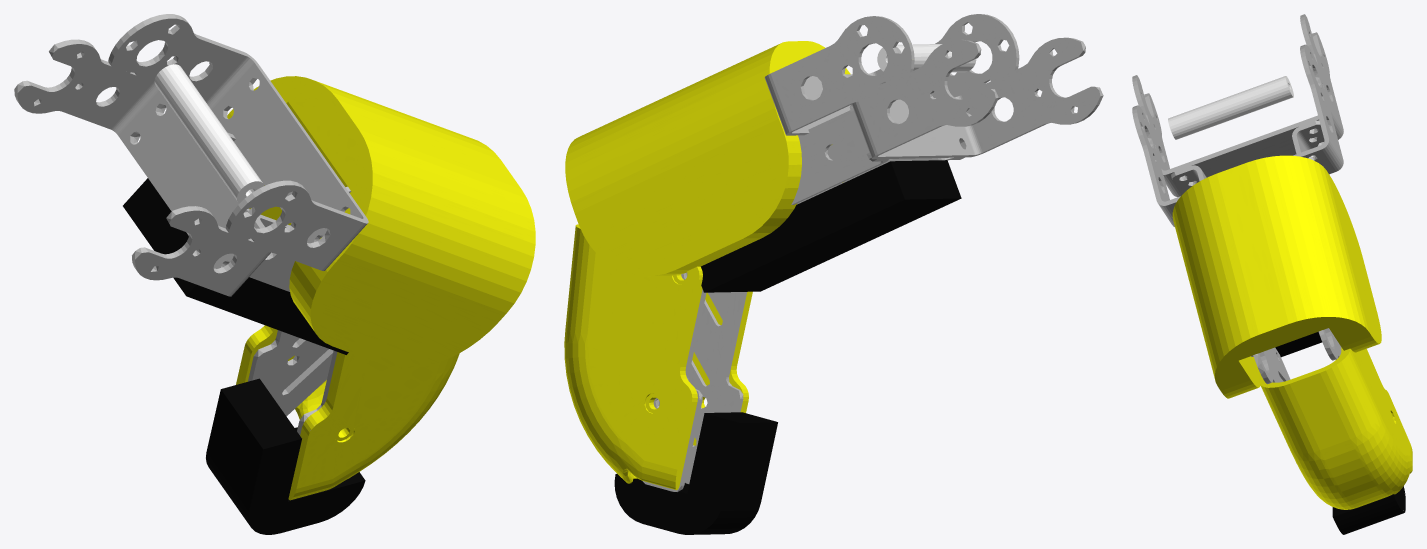
Rendered from mini2_finger_left_module.dae.
The picture shows the model from 3 angles, left to right: view 1: azimuth 30°, elevation 25°; view 2: azimuth 150°, elevation 25°; view 3: azimuth 270°, elevation 25°; orthographic projection. The views are drawn at different scales.
Visible parts, largest first — view 1: node; view 2: node; view 3: node.
Boxes of the visible parts, x1,y1,x2,y2 form: node: (14,14,535,534); node: (564,14,1103,534); node: (1132,14,1412,534).
Bounding box in the file's own units: 12 × 14.13 × 8.6.
Materials: 1 (1 with a texture image).
